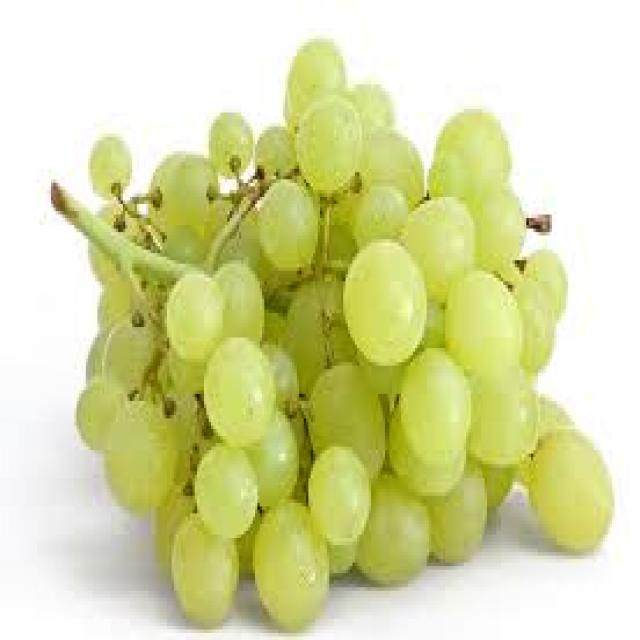organic waste: (526, 429, 610, 552), (341, 239, 422, 362), (304, 355, 385, 475), (252, 500, 324, 622), (466, 172, 550, 274), (105, 394, 177, 513), (352, 464, 424, 580), (283, 278, 355, 390), (385, 394, 464, 496), (200, 330, 272, 440), (399, 197, 473, 299), (169, 507, 234, 622), (402, 348, 468, 461), (445, 267, 517, 369), (468, 362, 534, 464), (433, 102, 508, 186), (426, 454, 484, 559), (193, 440, 255, 538), (294, 95, 360, 186), (253, 172, 315, 268), (148, 144, 220, 225), (306, 447, 369, 538), (355, 123, 422, 204), (278, 39, 341, 123), (253, 183, 315, 264), (517, 394, 571, 485), (162, 271, 220, 355), (248, 408, 297, 503), (150, 366, 202, 454), (506, 274, 554, 366), (100, 309, 150, 394), (88, 200, 142, 278), (311, 225, 355, 320), (153, 475, 193, 573), (213, 260, 260, 338), (517, 242, 566, 316), (350, 179, 404, 243), (464, 439, 510, 514), (202, 197, 250, 260), (74, 379, 118, 446), (209, 109, 250, 176), (260, 341, 297, 415), (86, 134, 127, 197), (348, 77, 396, 126), (253, 123, 294, 179), (158, 338, 202, 390), (234, 506, 264, 577), (322, 310, 357, 370), (424, 148, 466, 197), (155, 225, 202, 267), (95, 278, 135, 327), (418, 292, 446, 355), (371, 355, 408, 394), (79, 327, 107, 376), (260, 306, 290, 348), (322, 538, 355, 573)
